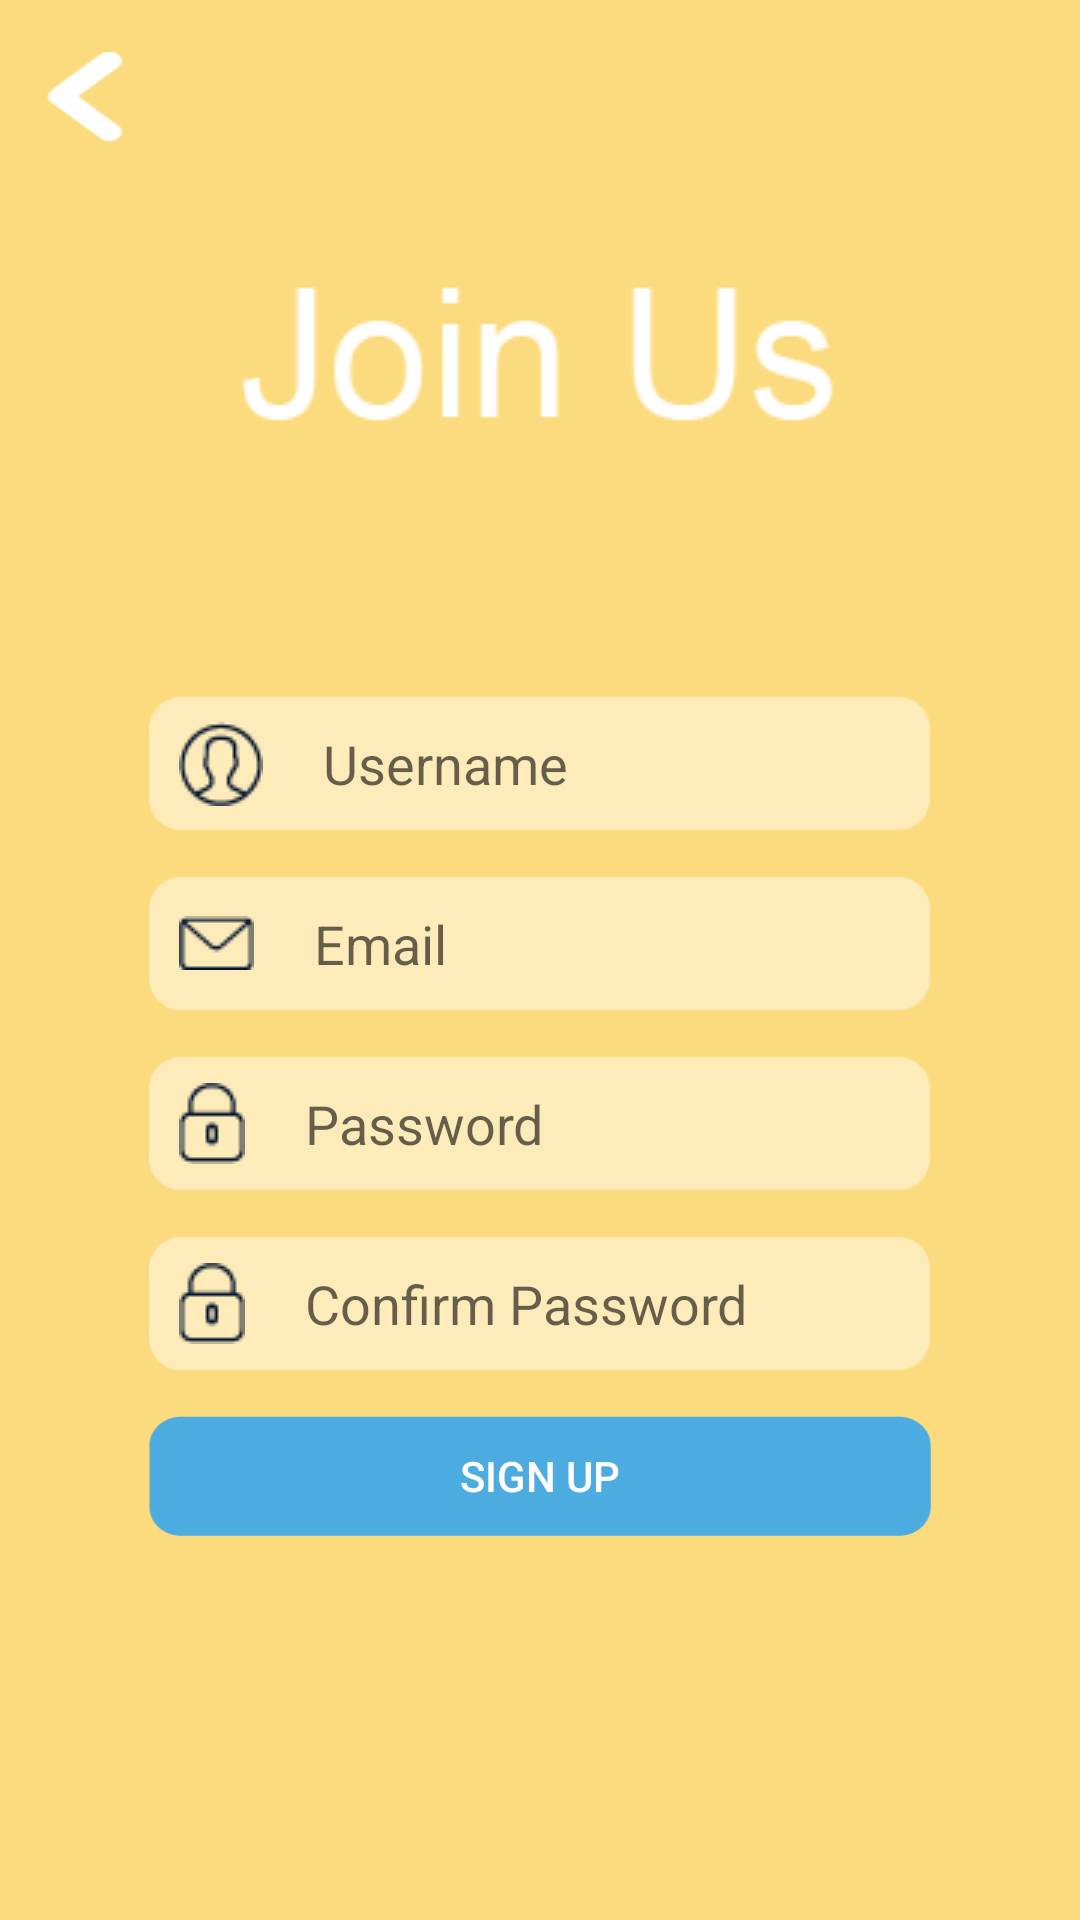

Icon click points for this 1080 x 1920 phone screenshot, format point (x, y):
backward: point (84, 97)
